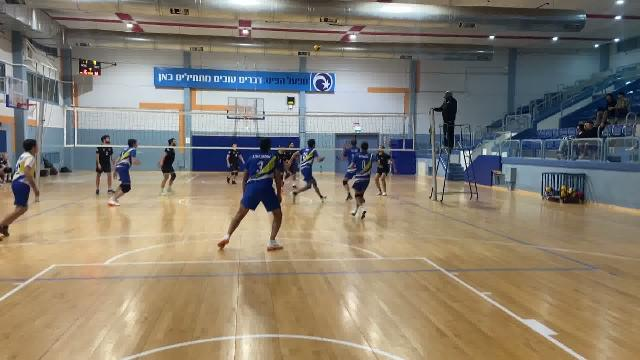ball: (311, 43, 320, 52)
